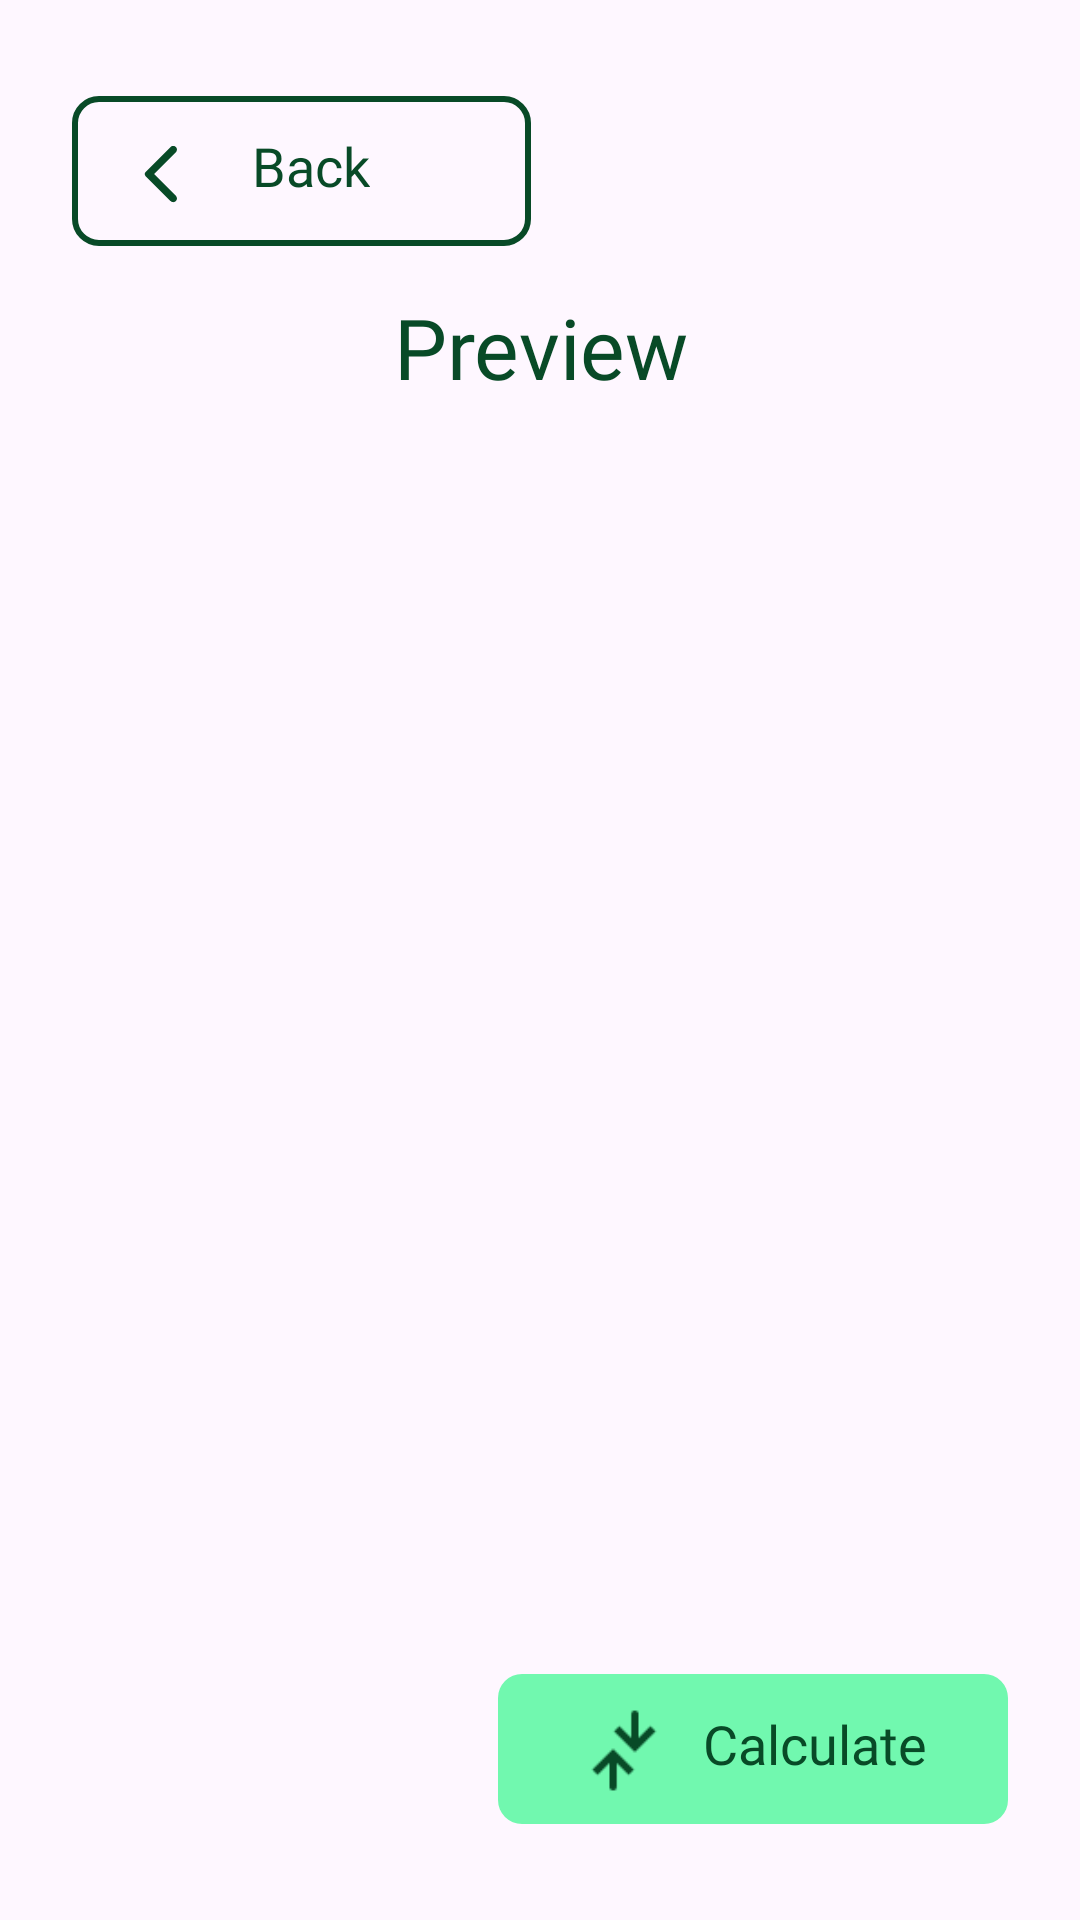

Icon bounding boxes for this 1080px x 1920px phone screenshot, format region(x1, y1, x2, y2):
collapse: region(592, 1710, 656, 1791)
